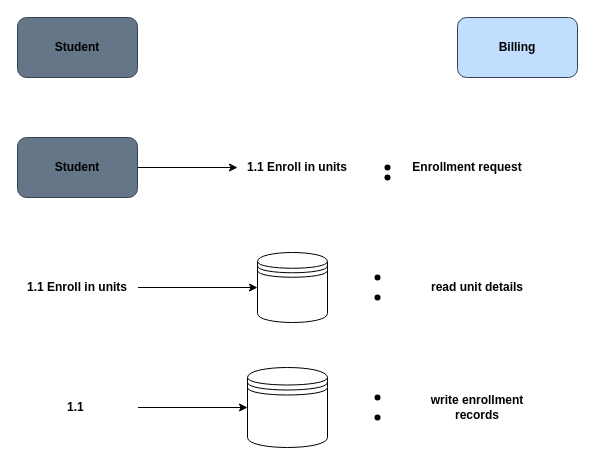
Some shapes in this 595 by 465 pixel diagram are drawn without their labels. Each missing label, with the box of its shape:
D2 enrollment records: (246, 366, 328, 448)
D3 Unit calalog: (256, 252, 328, 322)
